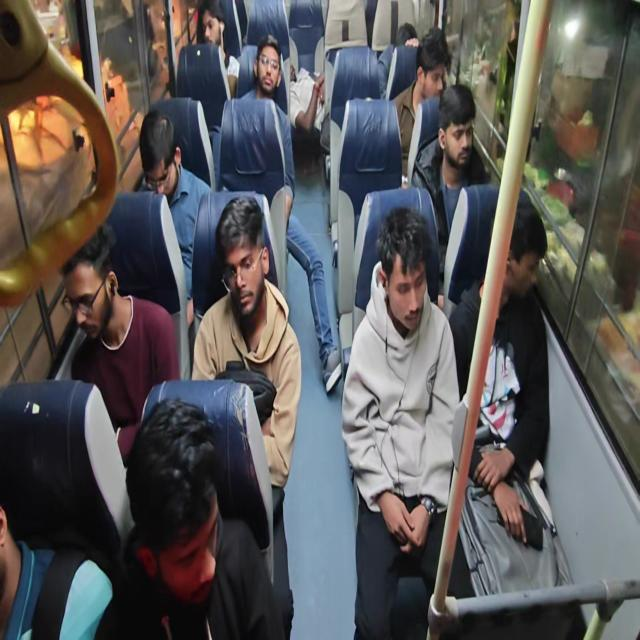person: (341, 206, 461, 638), (191, 195, 302, 637), (103, 396, 286, 639), (239, 34, 342, 394), (448, 200, 550, 549), (61, 223, 180, 465), (136, 109, 211, 325), (0, 505, 115, 639), (410, 82, 491, 242), (390, 28, 449, 184), (195, 0, 239, 99), (240, 34, 288, 115), (378, 22, 420, 98)
